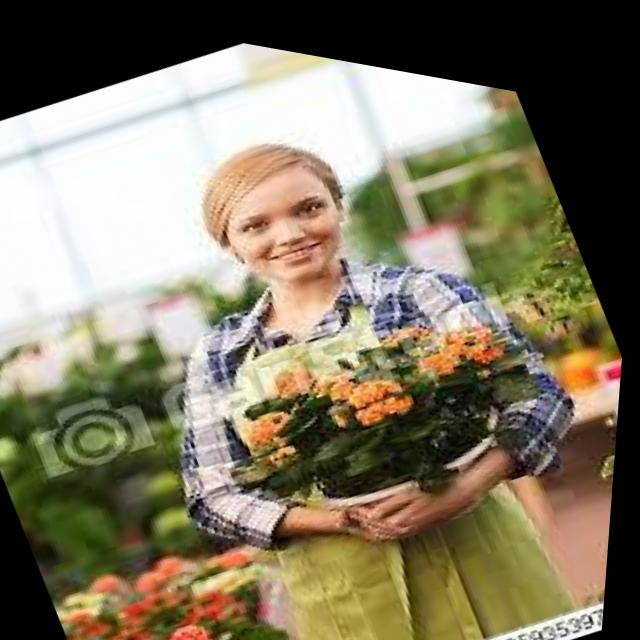Flower: (419, 290, 522, 378), (243, 383, 316, 457), (339, 341, 415, 408), (357, 361, 428, 422)
